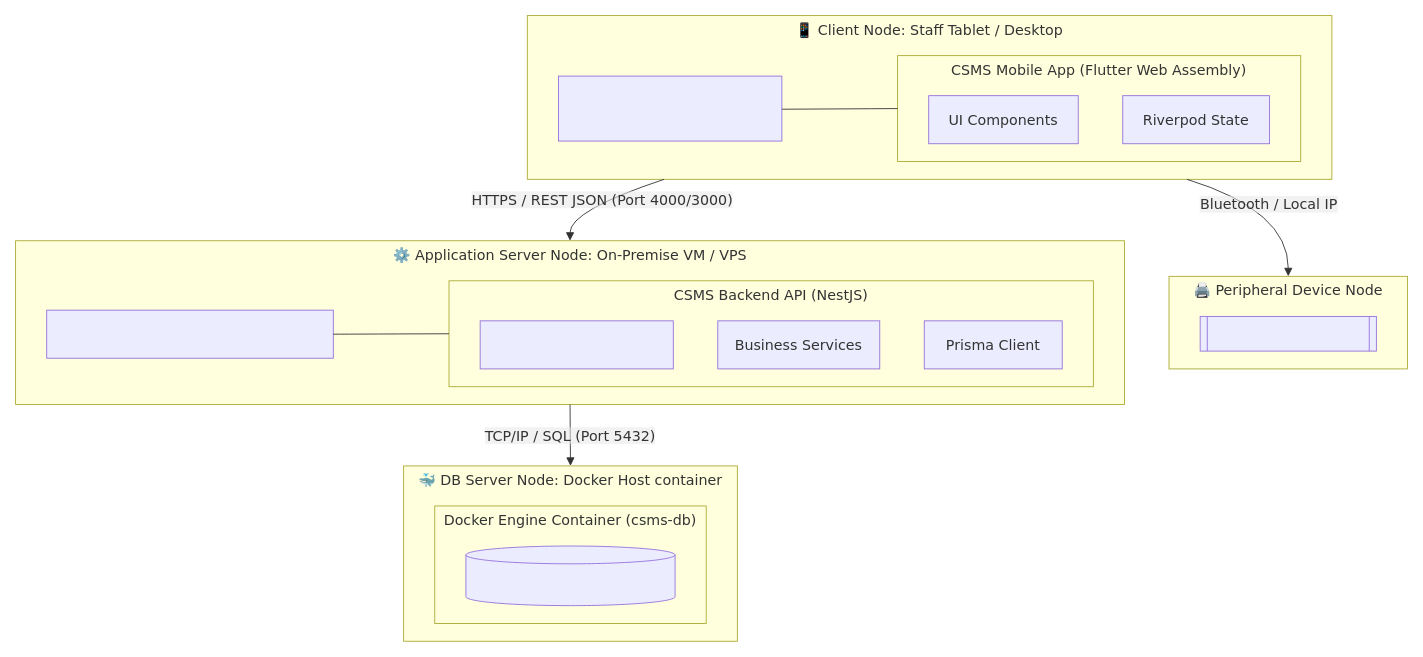
This 1423x657 diagram has some shape labels left out. Here are the shapes that lost their labels. From the top down, the centre of each, then its label:
the point at 670,108: 🌐 Web Browser (Chrome) Runtime: HTML5/JS VM
the point at 189,333: 🟢 Node.js 20 Runtime Environment
the point at 576,344: REST Router & Guards
the point at 1287,333: Receipt Kitchen Printer
the point at 570,575: PostgreSQL 16 Relational DBMS
